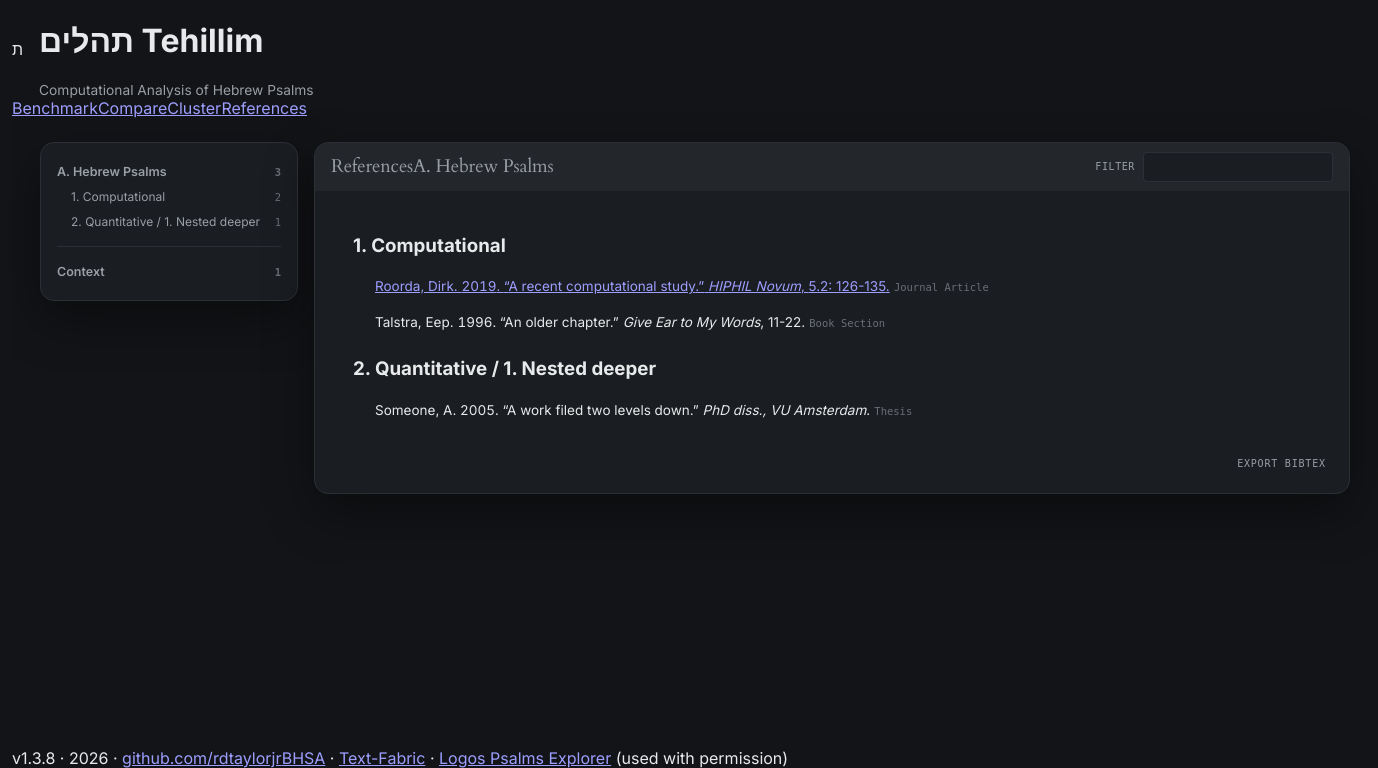
Test case: ReferencesPage › names the chosen category in the head, so the body never repeats it
Click the button named "Context1" at (169, 271), box x1=57 y1=259 x2=281 y2=284
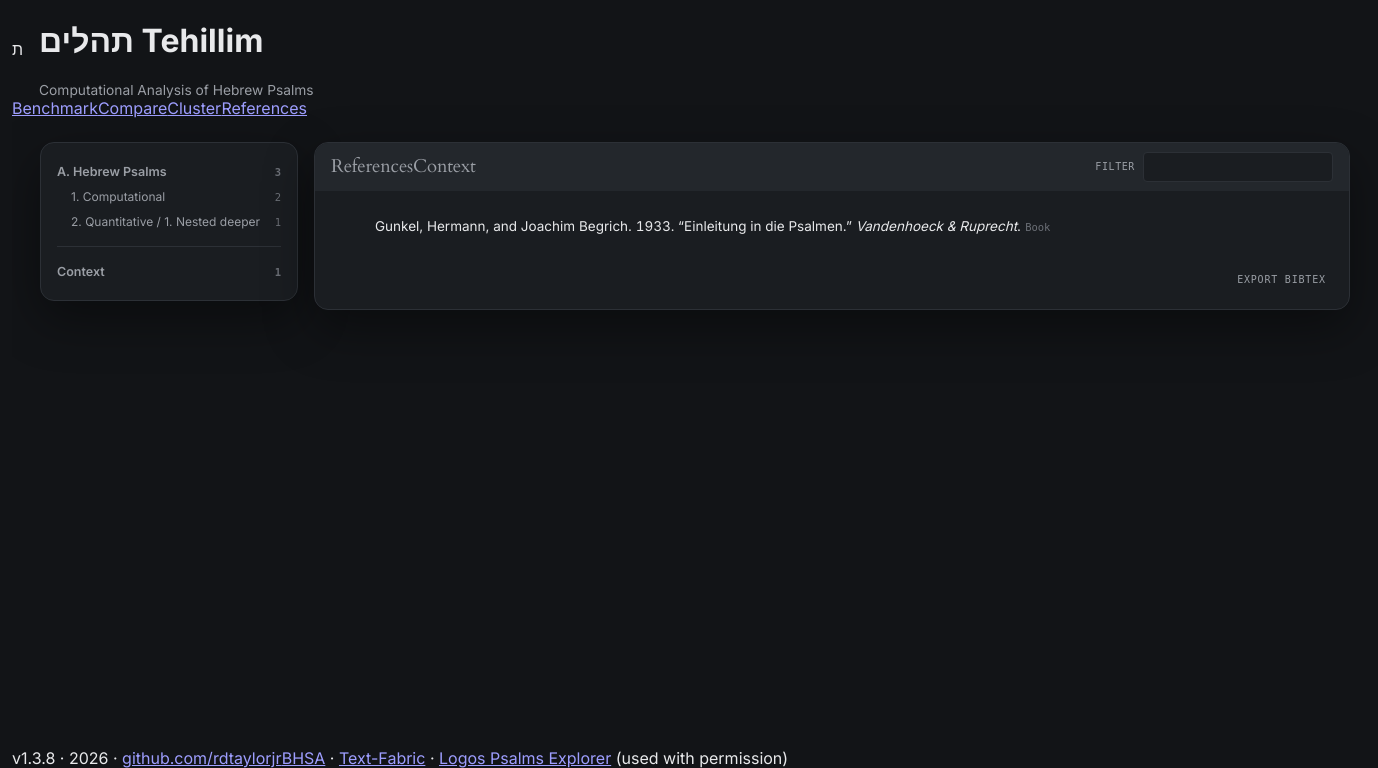
Expected: the element showing "ReferencesContext" is shown, x1=331 y1=152 x2=476 y2=182
